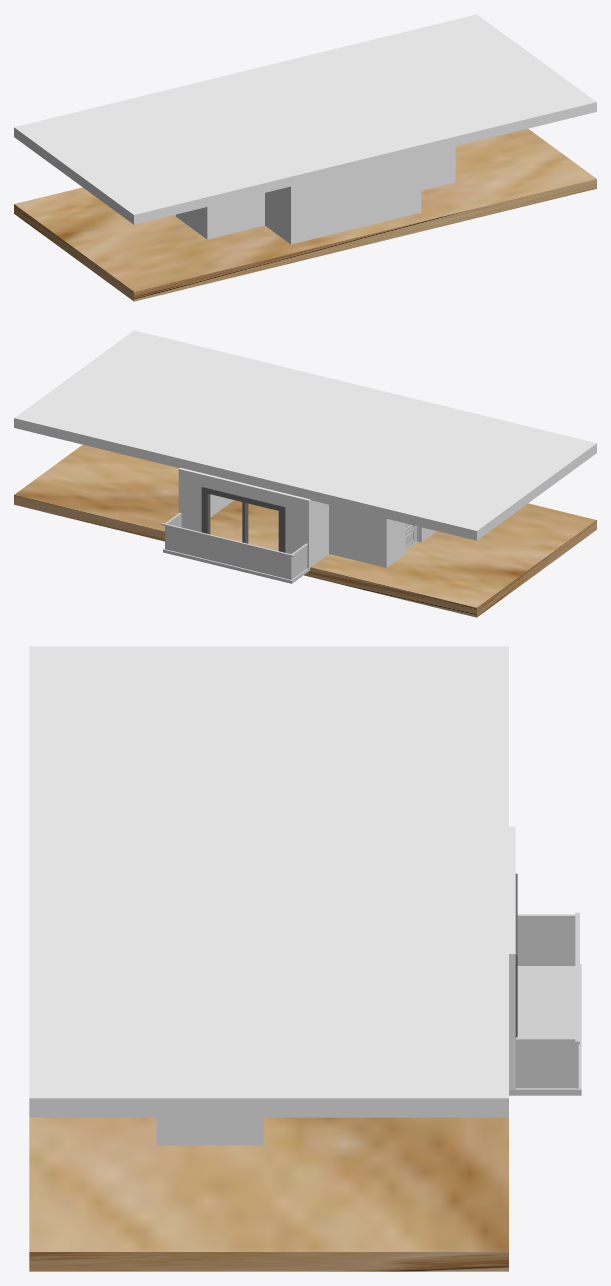
File: APPART V3.fbx
3 views of the same model, one above another, from view 1: azimuth 30°, elevation 25°; view 2: azimuth 150°, elevation 25°; view 3: azimuth 270°, elevation 25° (orthographic). The views are drawn at different scales.
Parts seen in each view (by area): view 1: poigné porte couloir; view 2: poigné porte couloir; view 3: poigné porte couloir.
Boxes of the visible parts, left/top/right/bottom form: poigné porte couloir: left=14, top=14, right=596, bottom=301; poigné porte couloir: left=14, top=330, right=596, bottom=617; poigné porte couloir: left=29, top=646, right=581, bottom=1271.
Bounding box in the file's own units: 2484 × 444 × 1284.
Materials: 10 (1 with a texture image).
